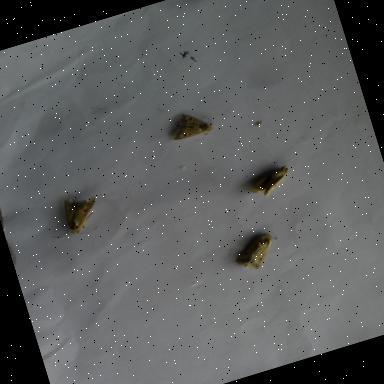abw: (38, 186, 108, 246), (225, 225, 286, 277), (163, 102, 219, 150), (240, 160, 298, 203)
